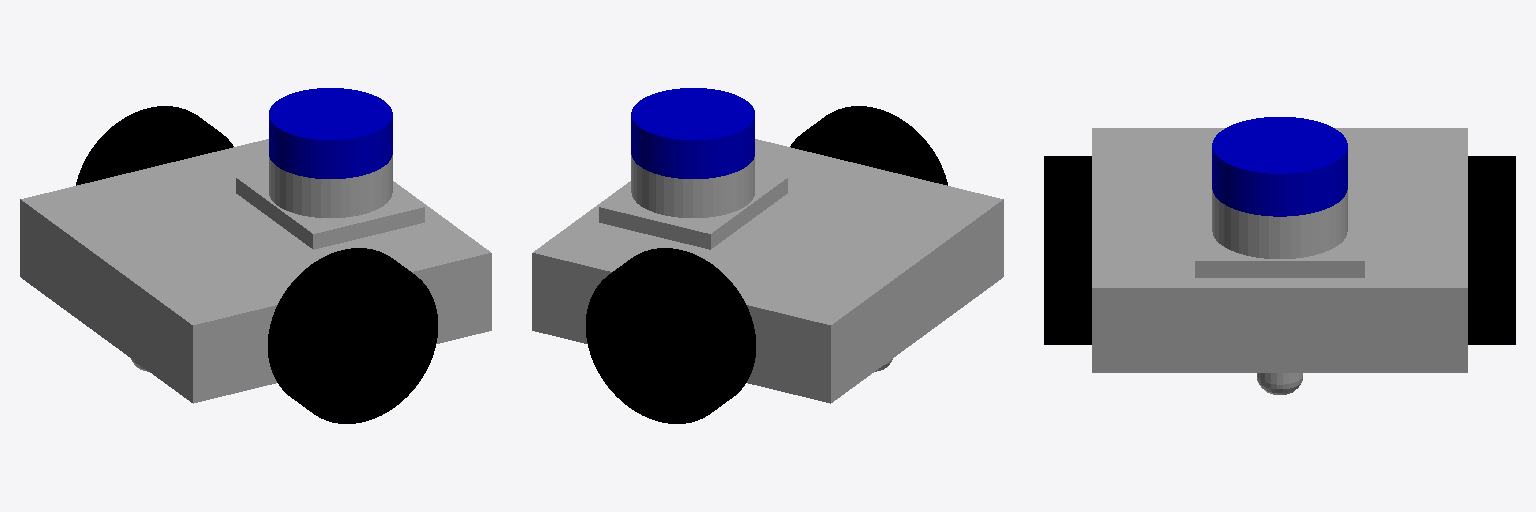
The robot description file, URDF, robot "fusionbot":
<?xml version="1.0" ?>
<!-- =================================================================================== -->
<!-- |    This document was autogenerated by xacro from [local-path]/nav2_ws/src/fusionbot_description/urdf/fusionbot.urdf.xacro | -->
<!-- |    EDITING THIS FILE BY HAND IS NOT RECOMMENDED                                 | -->
<!-- =================================================================================== -->
<robot name="fusionbot">
  <material name="silver">
    <color rgba="0.700 0.700 0.700 1.000"/>
  </material>
  <material name="white">
    <color rgba="1 1 1 0.6"/>
  </material>
  <material name="black">
    <color rgba="0 0 0 0.7"/>
  </material>
  <material name="red">
    <color rgba="1 0 0 1"/>
  </material>
  <material name="blue">
    <color rgba="0 0 0.8 1"/>
  </material>
  <gazebo>
    <plugin filename="libgazebo_ros_control.so" name="control"/>
  </gazebo>
  <gazebo reference="base_link">
    <material>Gazebo/Silver</material>
    <mu1>0.1</mu1>
    <mu2>0.1</mu2>
    <selfCollide>true</selfCollide>
    <gravity>true</gravity>
  </gazebo>
  <gazebo reference="lidar_1">
    <material>Gazebo/Silver</material>
    <mu1>0.2</mu1>
    <mu2>0.2</mu2>
    <selfCollide>true</selfCollide>
  </gazebo>
  <gazebo reference="right_wheel_1">
    <material>Gazebo/Silver</material>
    <mu1>1500</mu1>
    <mu2>1500</mu2>
    <selfCollide>true</selfCollide>
  </gazebo>
  <gazebo reference="left_wheel_1">
    <material>Gazebo/Silver</material>
    <mu1>1500</mu1>
    <mu2>1500</mu2>
    <selfCollide>true</selfCollide>
  </gazebo>
  <link name='base_footprint' />
  <link name="base_link">
    <inertial>
      <origin rpy="0 0 0" xyz="0.0037594591254762827 0.0 0.052804115668456025"/>
      <mass value="2.3079643337726483"/>
      <inertia ixx="0.00789" ixy="0.0" ixz="-0.000325" iyy="0.008347" iyz="0.0" izz="0.01475"/>
    </inertial>
    <visual>
      <origin rpy="0 0 0" xyz="0 0 0"/>
      <geometry>
        <mesh filename="package://fusionbot_description/meshes/base_link.stl" scale="0.001 0.001 0.001"/>
      </geometry>
      <material name="silver"/>
    </visual>
    <collision>
      <origin rpy="0 0 0" xyz="0 0 0"/>
      <geometry>
        <mesh filename="package://fusionbot_description/meshes/base_link.stl" scale="0.001 0.001 0.001"/>
      </geometry>
    </collision>
  </link>
  <link name="right_wheel_1">
    <inertial>
      <origin rpy="0 0 0" xyz="-5.790023100122029e-18 -0.012499999999999997 0.0"/>
      <mass value="0.1826050729899067"/>
      <inertia ixx="0.000124" ixy="-0.0" ixz="0.0" iyy="0.000228" iyz="0.0" izz="0.000124"/>
    </inertial>
    <visual>
      <origin rpy="0 0 0" xyz="-0.0 0.1 -0.05"/>
      <geometry>
        <mesh filename="package://fusionbot_description/meshes/right_wheel_1.stl" scale="0.001 0.001 0.001"/>
      </geometry>
      <material name="black"/>
    </visual>
    <collision>
      <origin rpy="0 0 0" xyz="-0.0 0.1 -0.05"/>
      <geometry>
        <mesh filename="package://fusionbot_description/meshes/right_wheel_1.stl" scale="0.001 0.001 0.001"/>
      </geometry>
    </collision>
  </link>
  <link name="left_wheel_1">
    <inertial>
      <origin rpy="0 0 0" xyz="-5.790023100122029e-18 0.012499999999999997 0.0"/>
      <mass value="0.1826050729899067"/>
      <inertia ixx="0.000124" ixy="0.0" ixz="0.0" iyy="0.000228" iyz="-0.0" izz="0.000124"/>
    </inertial>
    <visual>
      <origin rpy="0 0 0" xyz="-0.0 -0.1 -0.05"/>
      <geometry>
        <mesh filename="package://fusionbot_description/meshes/left_wheel_1.stl" scale="0.001 0.001 0.001"/>
      </geometry>
      <material name="black"/>
    </visual>
    <collision>
      <origin rpy="0 0 0" xyz="-0.0 -0.1 -0.05"/>
      <geometry>
        <mesh filename="package://fusionbot_description/meshes/left_wheel_1.stl" scale="0.001 0.001 0.001"/>
      </geometry>
    </collision>
  </link>
  <link name="lidar_1">
    <inertial>
      <origin rpy="0 0 0" xyz="0.0 0.0 0.012499999999999997"/>
      <mass value="0.7552585088770711"/>
      <inertia ixx="0.000271" ixy="0.0" ixz="0.0" iyy="0.000271" iyz="-0.0" izz="0.000463"/>
    </inertial>
    <visual>
      <origin rpy="0 0 0" xyz="-0.05 -0.0 -0.11"/>
      <geometry>
        <mesh filename="package://fusionbot_description/meshes/lidar_1.stl" scale="0.001 0.001 0.001"/>
      </geometry>
      <material name="blue"/>
    </visual>
    <collision>
      <origin rpy="0 0 0" xyz="-0.05 -0.0 -0.11"/>
      <geometry>
        <mesh filename="package://fusionbot_description/meshes/lidar_1.stl" scale="0.001 0.001 0.001"/>
      </geometry>
    </collision>
  </link>
  <joint name='base_link_joint' type='fixed'>
    <origin rpy="0 0 0" xyz="0 0 0" />
    <parent link="base_footprint" />
    <child link="base_link" />
  </joint>
  <joint name="right_wheel_joint" type="continuous">
    <origin rpy="0 0 0" xyz="0.0 -0.1 0.05"/>
    <parent link="base_link"/>
    <child link="right_wheel_1"/>
    <axis xyz="0.0 1.0 0.0"/>
  </joint>
  <joint name="left_wheel_joint" type="continuous">
    <origin rpy="0 0 0" xyz="0.0 0.1 0.05"/>
    <parent link="base_link"/>
    <child link="left_wheel_1"/>
    <axis xyz="0.0 1.0 0.0"/>
  </joint>
  <joint name="lidar_joint" type="fixed">
    <origin rpy="0 0 0" xyz="0.05 0.0 0.11"/>
    <parent link="base_link"/>
    <child link="lidar_1"/>
  </joint>
</robot>

--- Render facts (derived) ---
Views: 3 orthographic renders of the robot side by side, from view 1: azimuth 30°, elevation 25°; view 2: azimuth 150°, elevation 25°; view 3: azimuth 270°, elevation 25°.
Robot: fusionbot — 5 links, 4 joints (2 continuous, 2 fixed); root link base_footprint; default pose: all joints at 0.
Links seen in each view (by area): view 1: base_link, right_wheel_1, lidar_1, left_wheel_1; view 2: base_link, left_wheel_1, lidar_1, right_wheel_1; view 3: base_link, lidar_1, right_wheel_1, left_wheel_1.
Boxes of the visible links, x1,y1,x2,y2 form: base_link: [20, 139, 491, 403]; right_wheel_1: [268, 248, 437, 423]; lidar_1: [269, 88, 392, 178]; left_wheel_1: [76, 106, 233, 185]; base_link: [532, 139, 1003, 403]; left_wheel_1: [586, 248, 755, 423]; lidar_1: [631, 88, 754, 178]; right_wheel_1: [790, 106, 947, 185]; base_link: [1092, 128, 1467, 394]; lidar_1: [1212, 117, 1347, 216]; right_wheel_1: [1044, 156, 1091, 344]; left_wheel_1: [1468, 156, 1515, 344].
Bounding box of the posed robot: 0.2 × 0.25 × 0.135 m (x, y, z).
Meshes: 4 distinct files referenced, 4 mesh visuals loaded (4 binary STL).